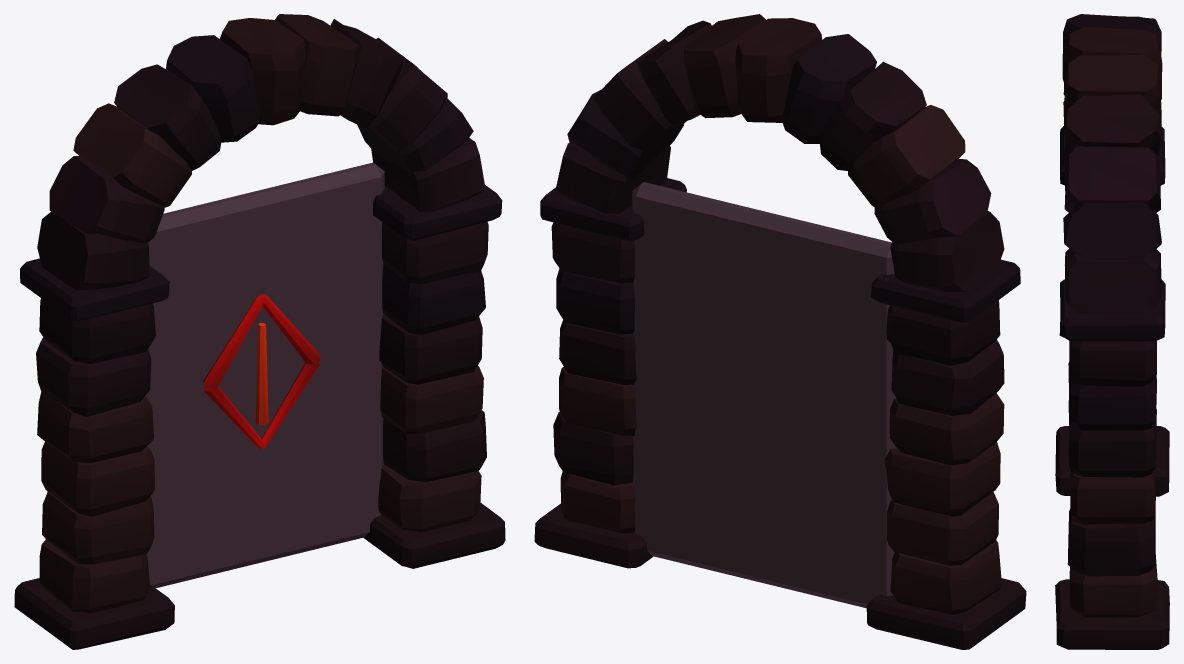
File: SealedArch.fbx
The picture shows the model from 3 angles, left to right: view 1: azimuth 30°, elevation 25°; view 2: azimuth 150°, elevation 25°; view 3: azimuth 270°, elevation 25°; orthographic projection. The views are drawn at different scales.
Parts seen in each view (by area): view 1: RuinsMasonry.RuinsMasonry, RuinsCoal.RuinsCoal, RuinsRune.RuinsRune, RuinsFire.RuinsFire; view 2: RuinsMasonry.RuinsMasonry, RuinsCoal.RuinsCoal; view 3: RuinsMasonry.RuinsMasonry.
Part boxes in pixels (left/top/right/bottom): RuinsMasonry.RuinsMasonry: left=14, top=14, right=505, bottom=649; RuinsCoal.RuinsCoal: left=145, top=162, right=384, bottom=588; RuinsRune.RuinsRune: left=203, top=294, right=320, bottom=448; RuinsFire.RuinsFire: left=255, top=323, right=268, bottom=424; RuinsMasonry.RuinsMasonry: left=534, top=14, right=1026, bottom=649; RuinsCoal.RuinsCoal: left=632, top=182, right=896, bottom=608; RuinsMasonry.RuinsMasonry: left=1055, top=14, right=1169, bottom=649.
Bounding box in the file's own units: 3.92 × 4.66 × 0.9435.
